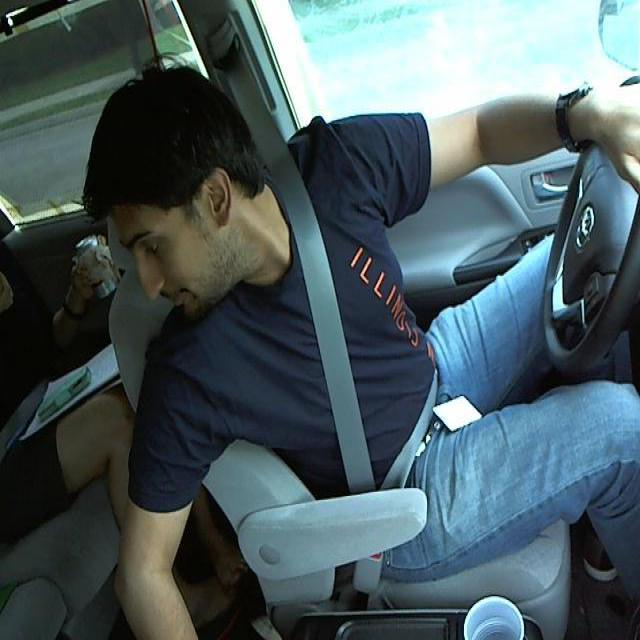seatbelt: (279, 195, 377, 502)
